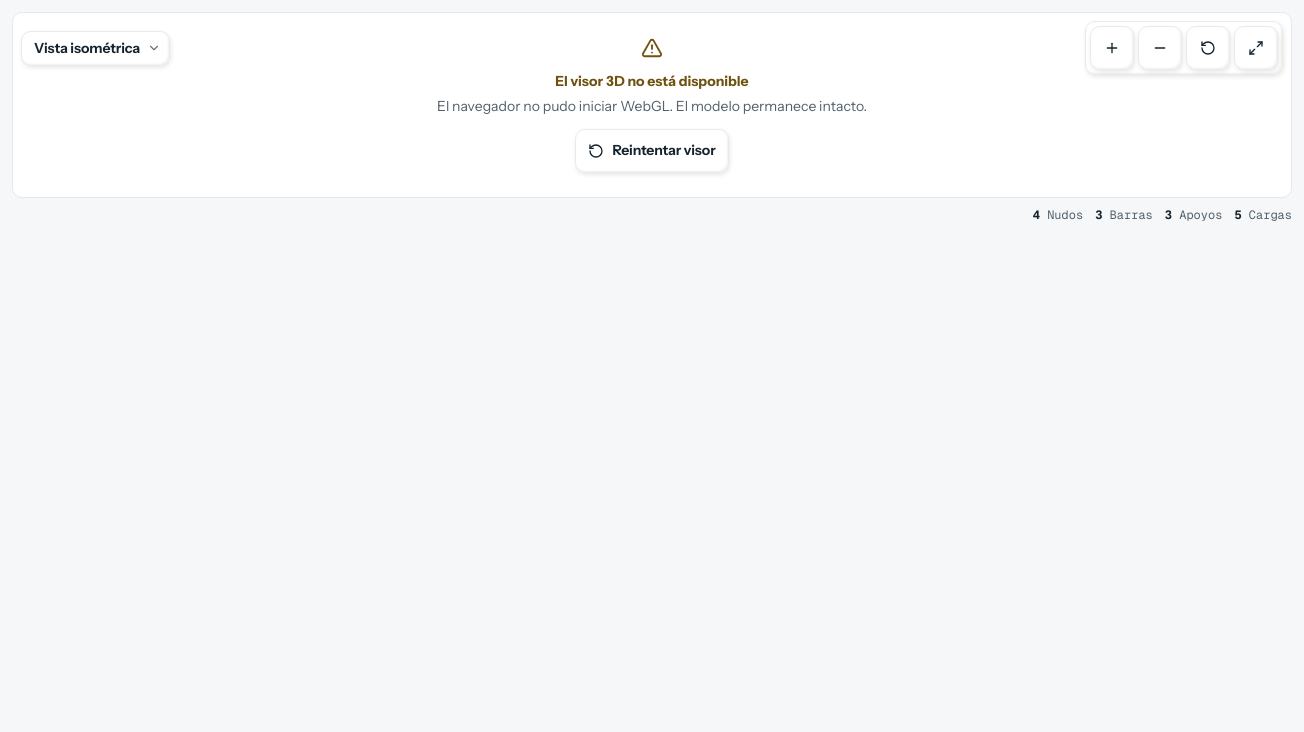
Test case: Space3DCanvas › muestra el fallback cuando el viewport no arranca y permite reintentar
This screenshot has width=1304, height=732.
Expected: the message shows "El visor 3D no está disponible", [555,72,749,90]
Expected: the element named "Modelo visible" is shown, [1033,206,1292,224]
Click the button "Reintentar visor".
click(652, 151)  # box [576,129,729,173]
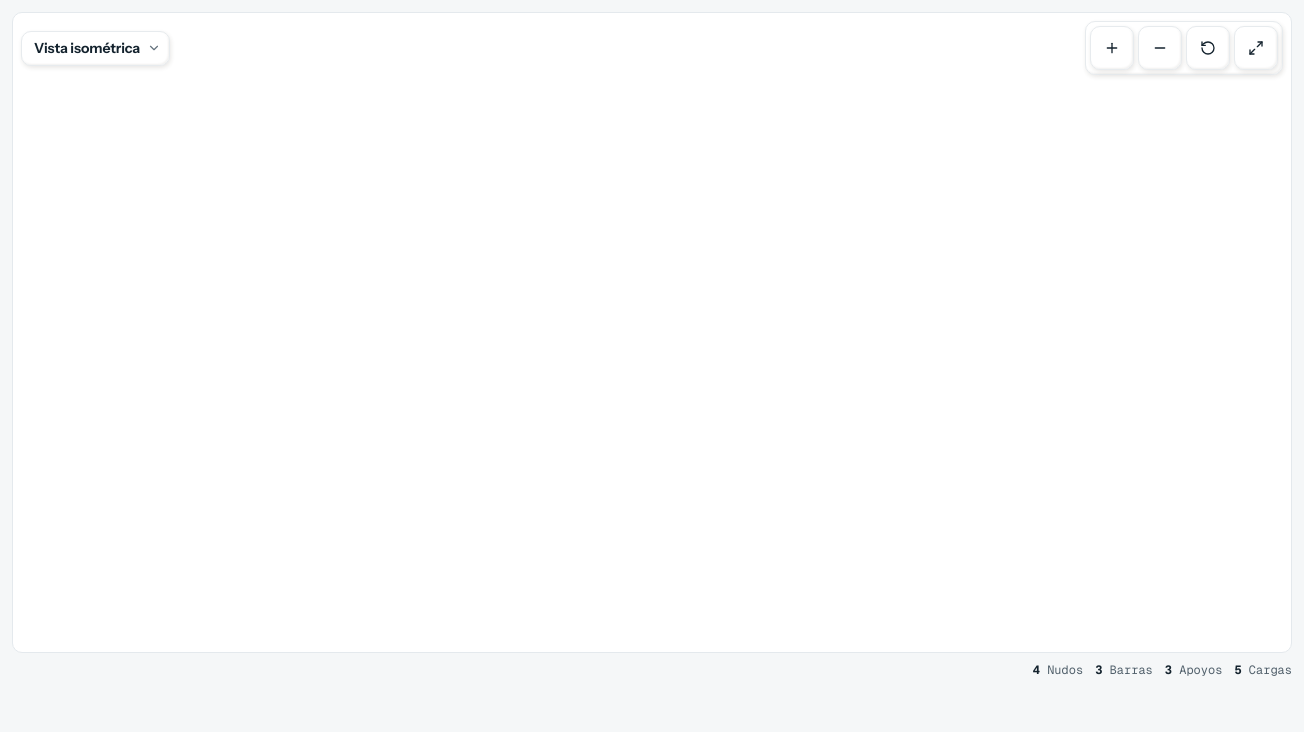
Now the message is gone
Now the picture named "Vista tridimensional del marco espacial" is shown
